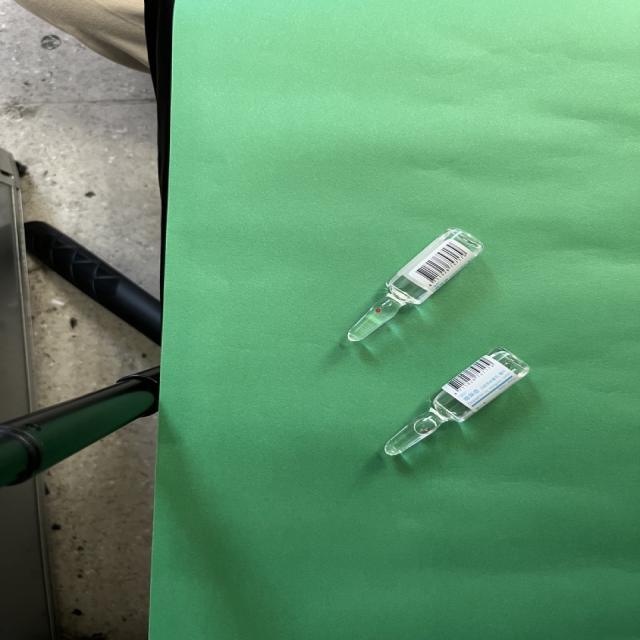Ampoules: (384, 348, 529, 456), (347, 228, 483, 342)
